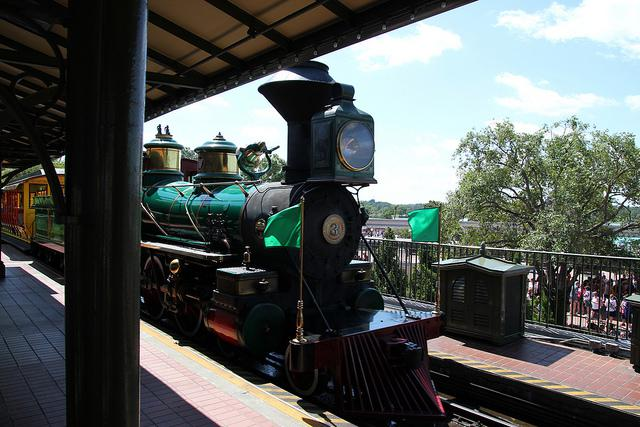Train: (4, 78, 445, 417)
